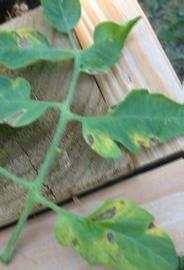Tomato Early blight leaf: (58, 198, 176, 270), (80, 93, 179, 159), (80, 7, 148, 79), (0, 72, 54, 128), (0, 30, 70, 69)
Tomato leaf: (40, 0, 87, 33)
